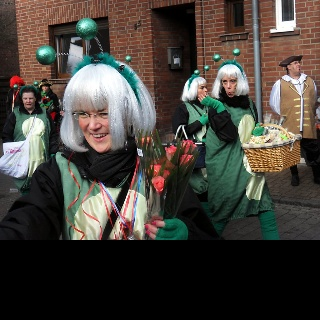without_mask: (222, 74, 237, 97), (21, 91, 35, 109), (290, 60, 301, 74), (41, 85, 49, 90)
